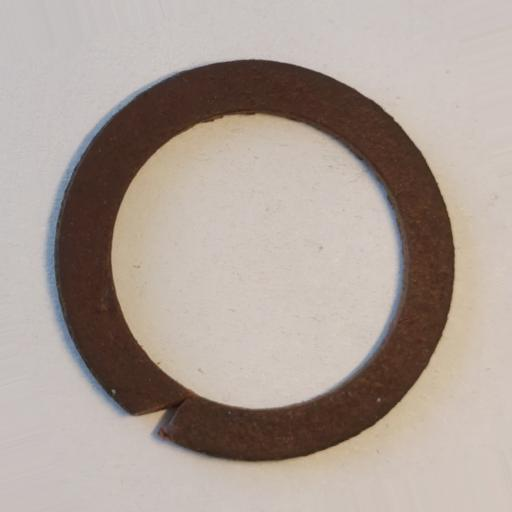defect: (132, 394, 190, 436)
